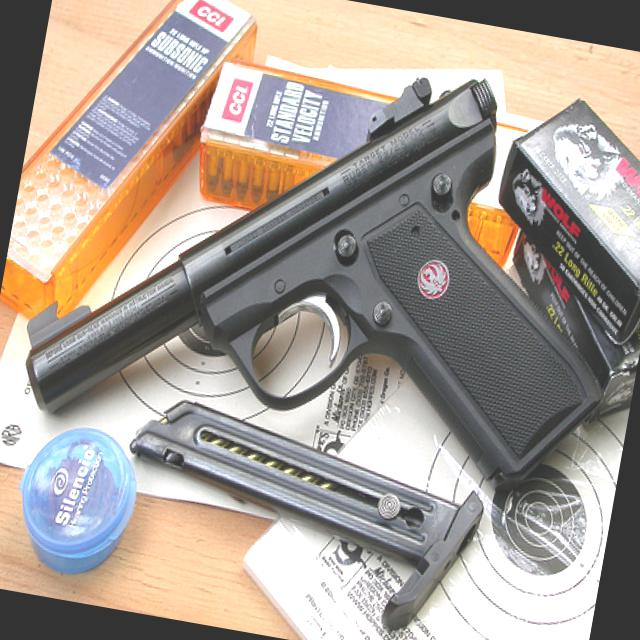handgun: (9, 5, 639, 507)
